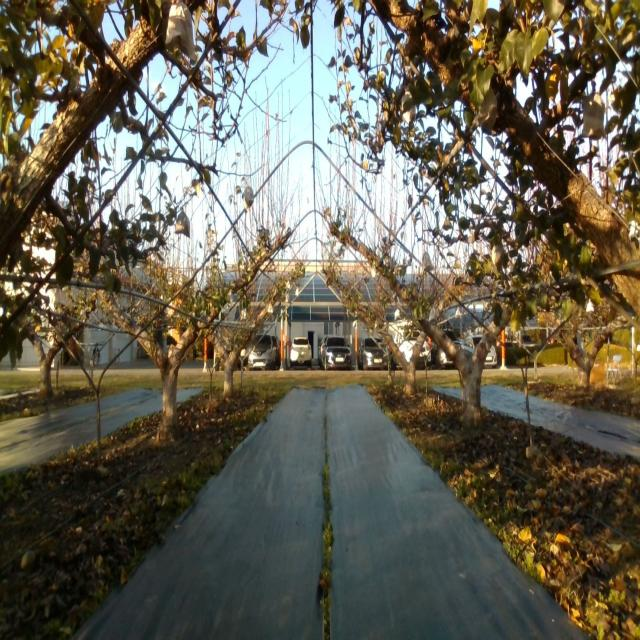pearbags: (162, 0, 198, 61), (582, 93, 608, 141), (175, 207, 191, 237), (243, 186, 254, 209), (422, 252, 432, 274)
